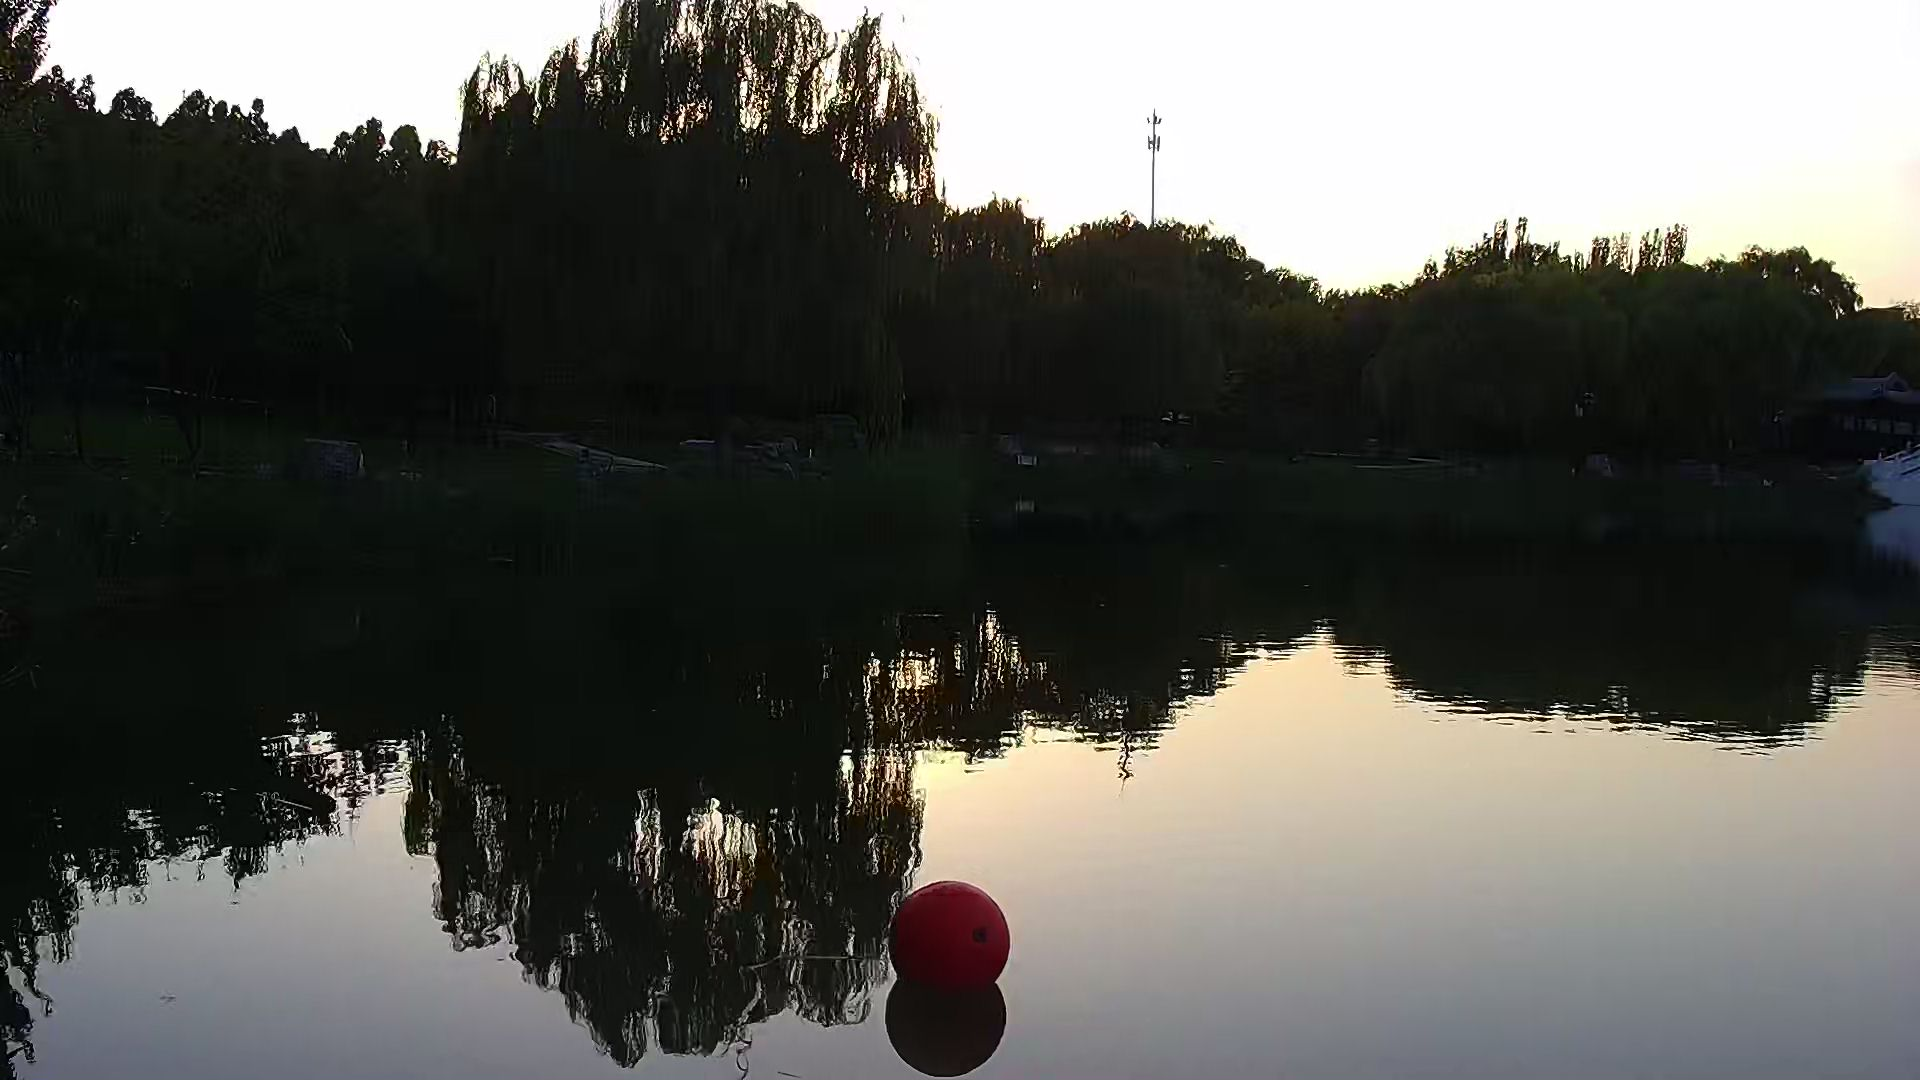rubbish: (890, 881, 1011, 996)
